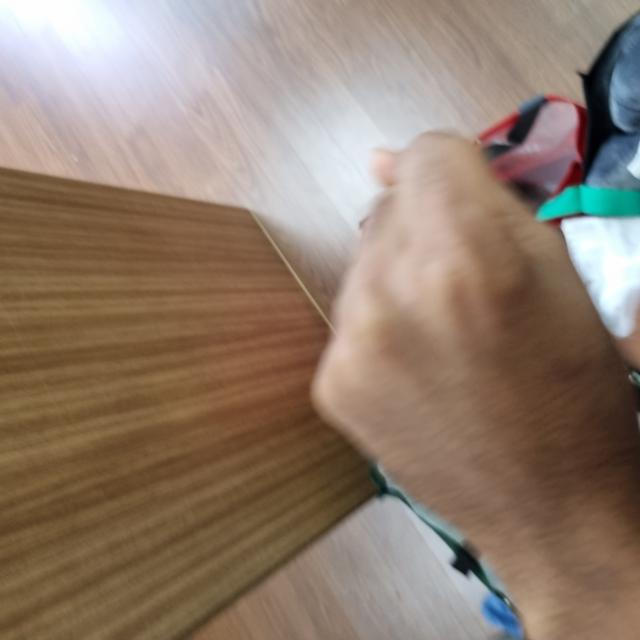Rock: (88, 316, 510, 634)
